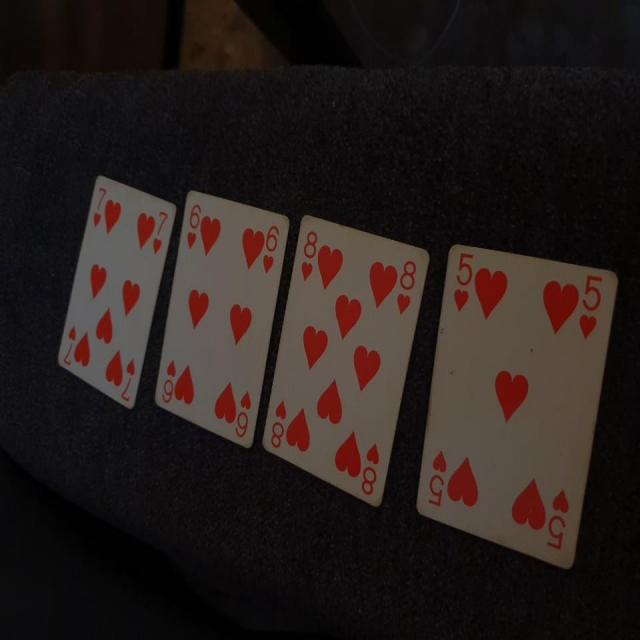5 Hearts: (410, 228, 623, 585)
6 Hearts: (149, 180, 293, 454)
7 Hearts: (56, 168, 181, 412)
8 Hearts: (257, 210, 436, 519)
